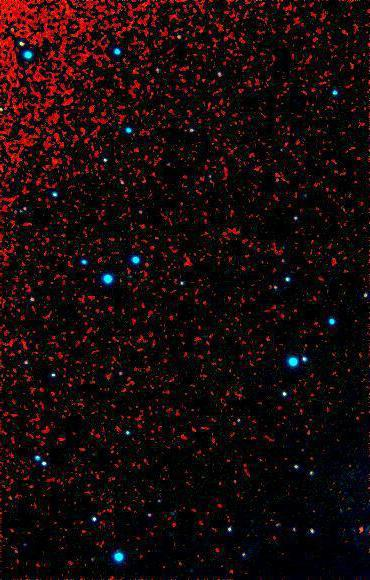star: (347, 513, 370, 543)
